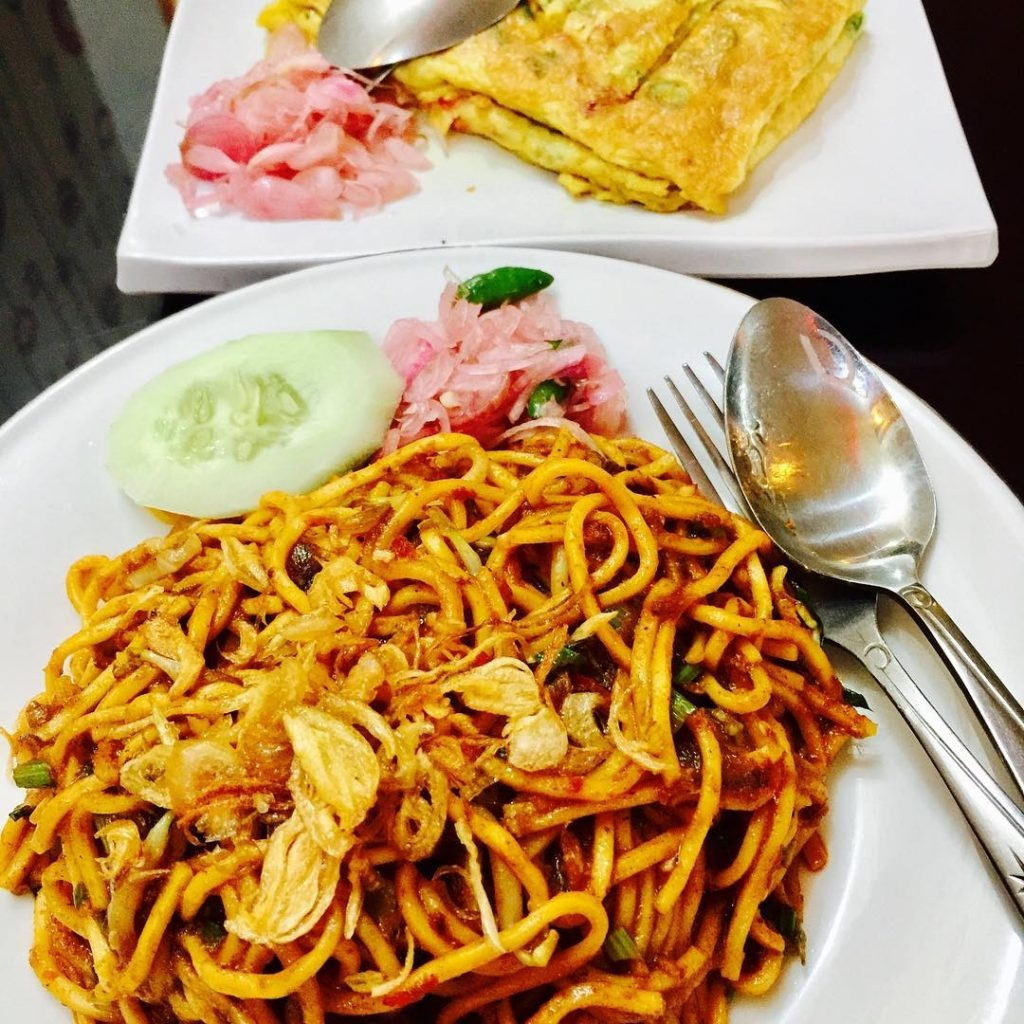mie_aceh: (1, 449, 835, 1024)
